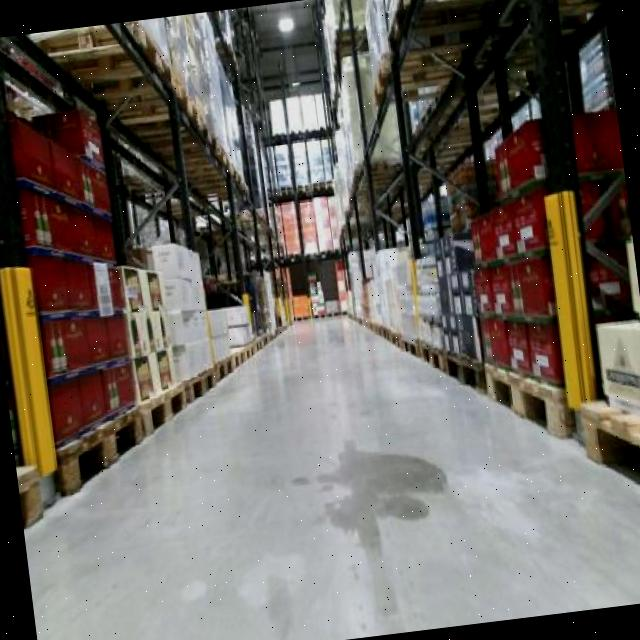pallet: (475, 347, 580, 456), (48, 397, 148, 502), (134, 372, 192, 437), (444, 344, 484, 404), (178, 364, 225, 409), (414, 334, 448, 390)
